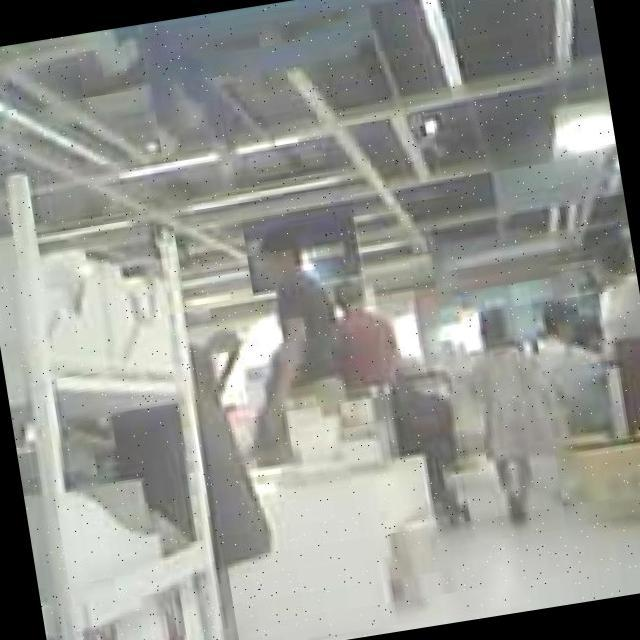person: (458, 302, 572, 530), (226, 227, 348, 433), (528, 284, 618, 441), (324, 272, 408, 401), (588, 239, 640, 427)
